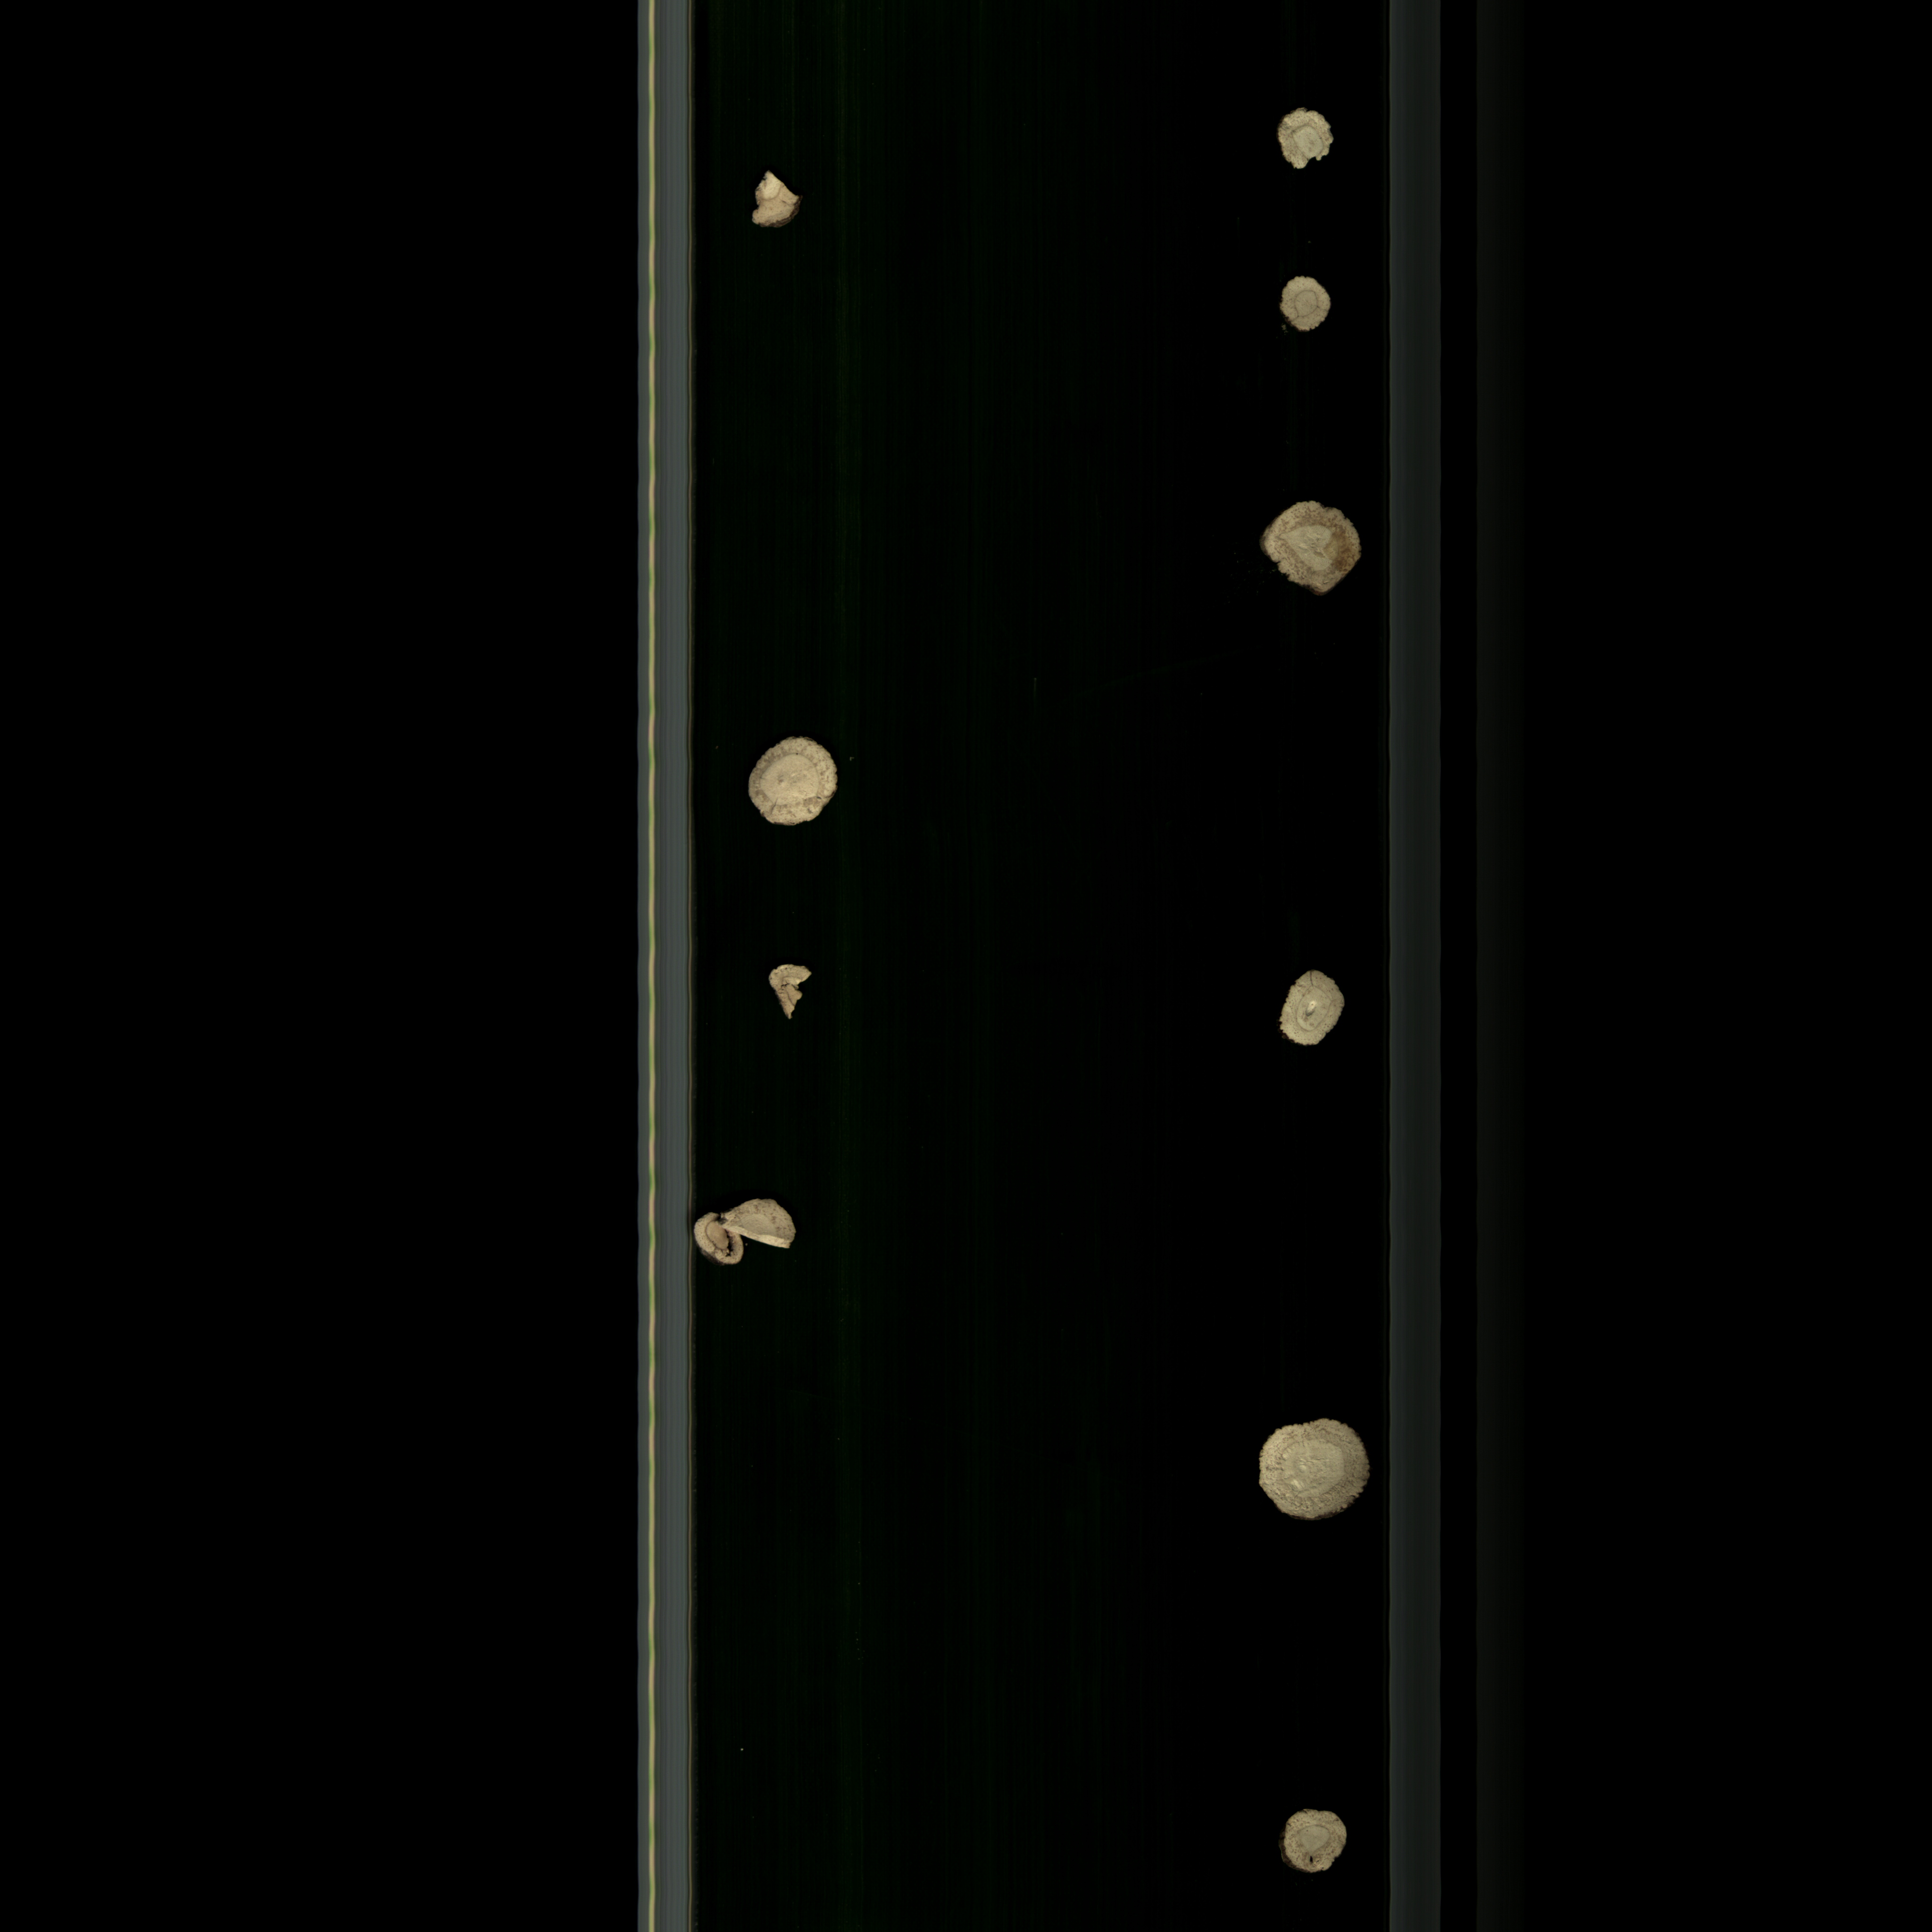debris: (1261, 103, 1350, 180), (708, 1196, 807, 1258)
dreg: (743, 163, 817, 244), (761, 959, 821, 1026)
hole: (1269, 1796, 1362, 1888), (1276, 955, 1350, 1054)
moldy: (1249, 490, 1378, 609), (694, 1203, 754, 1270)
